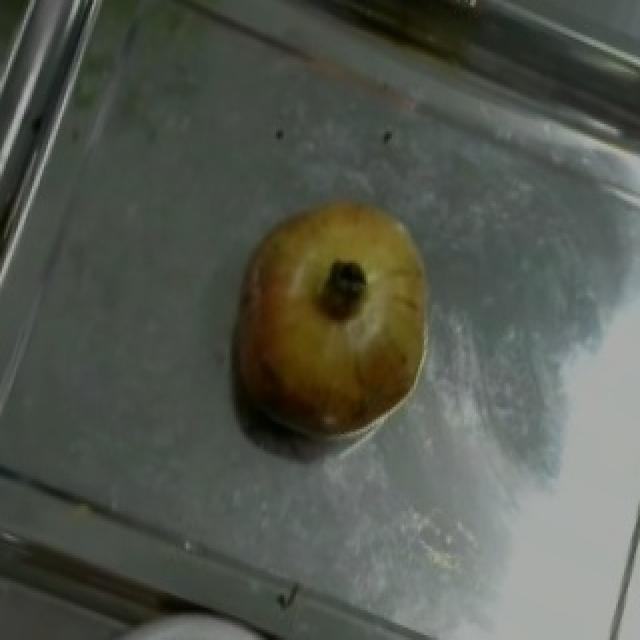fruit: (202, 166, 466, 439)
